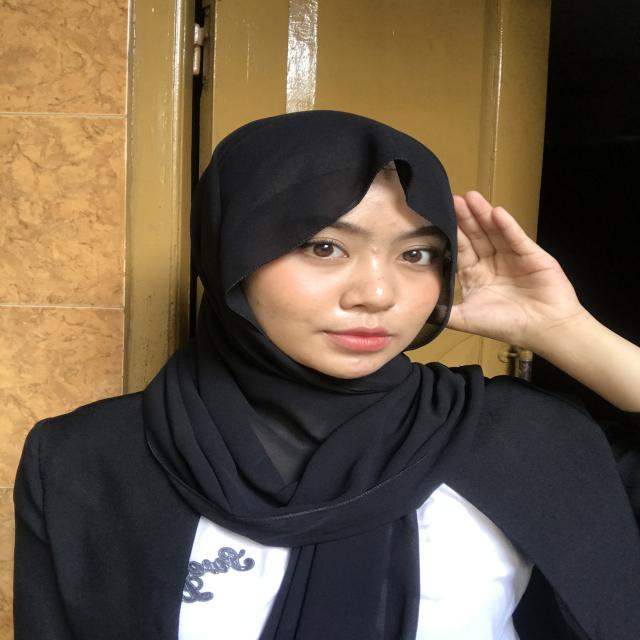mendengar: (428, 185, 574, 362)
